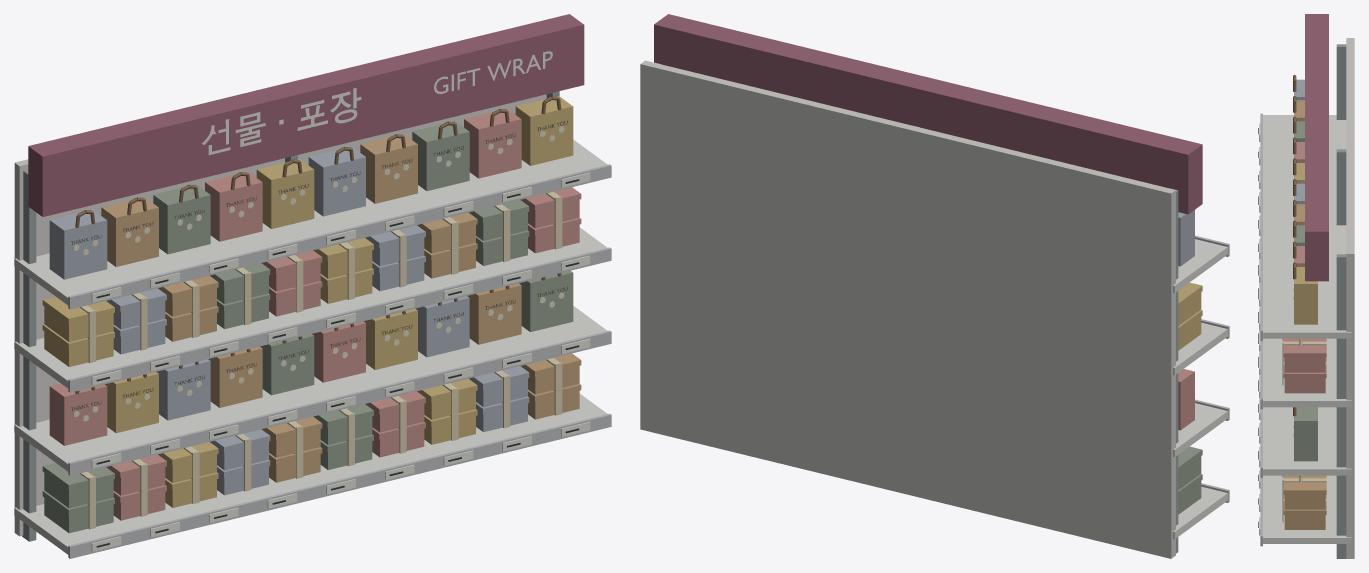
The model's file is GiftWrap.glb.
The picture shows the model from 3 angles, left to right: view 1: azimuth 30°, elevation 25°; view 2: azimuth 150°, elevation 25°; view 3: azimuth 270°, elevation 25°; orthographic projection. The views are drawn at different scales.
Parts seen in each view (by area): view 1: GiftWrap; view 2: GiftWrap; view 3: GiftWrap.
Part boxes in pixels (x1,y1,x2,y2): GiftWrap: (14,14,611,558); GiftWrap: (640,14,1229,558); GiftWrap: (1258,14,1354,558).
Bounding box in the file's own units: 3 × 2.12 × 0.562.
